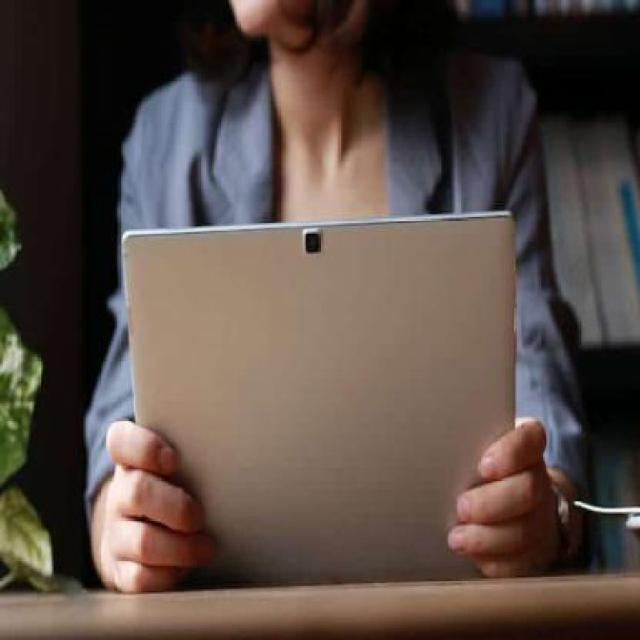tablet: (56, 161, 569, 618)
